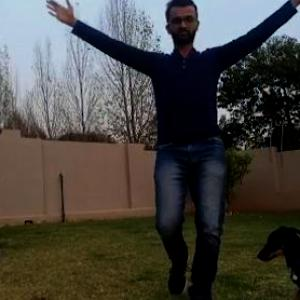takeoff: (49, 0, 299, 291)
